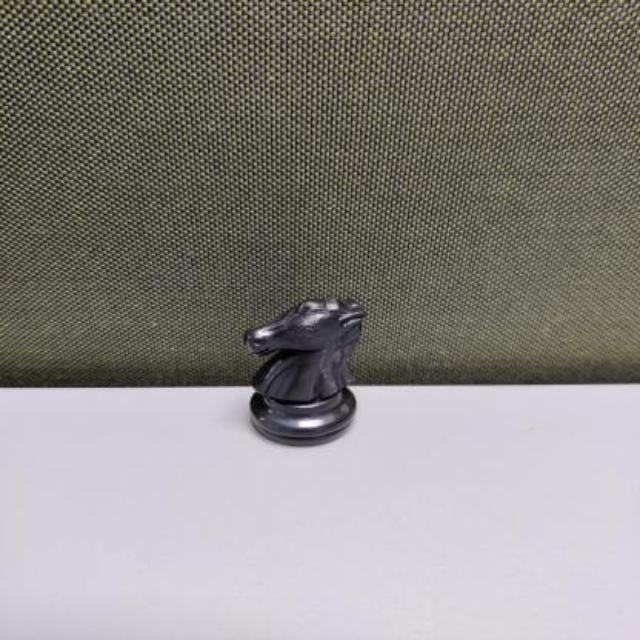black-knight: (236, 294, 368, 450)
